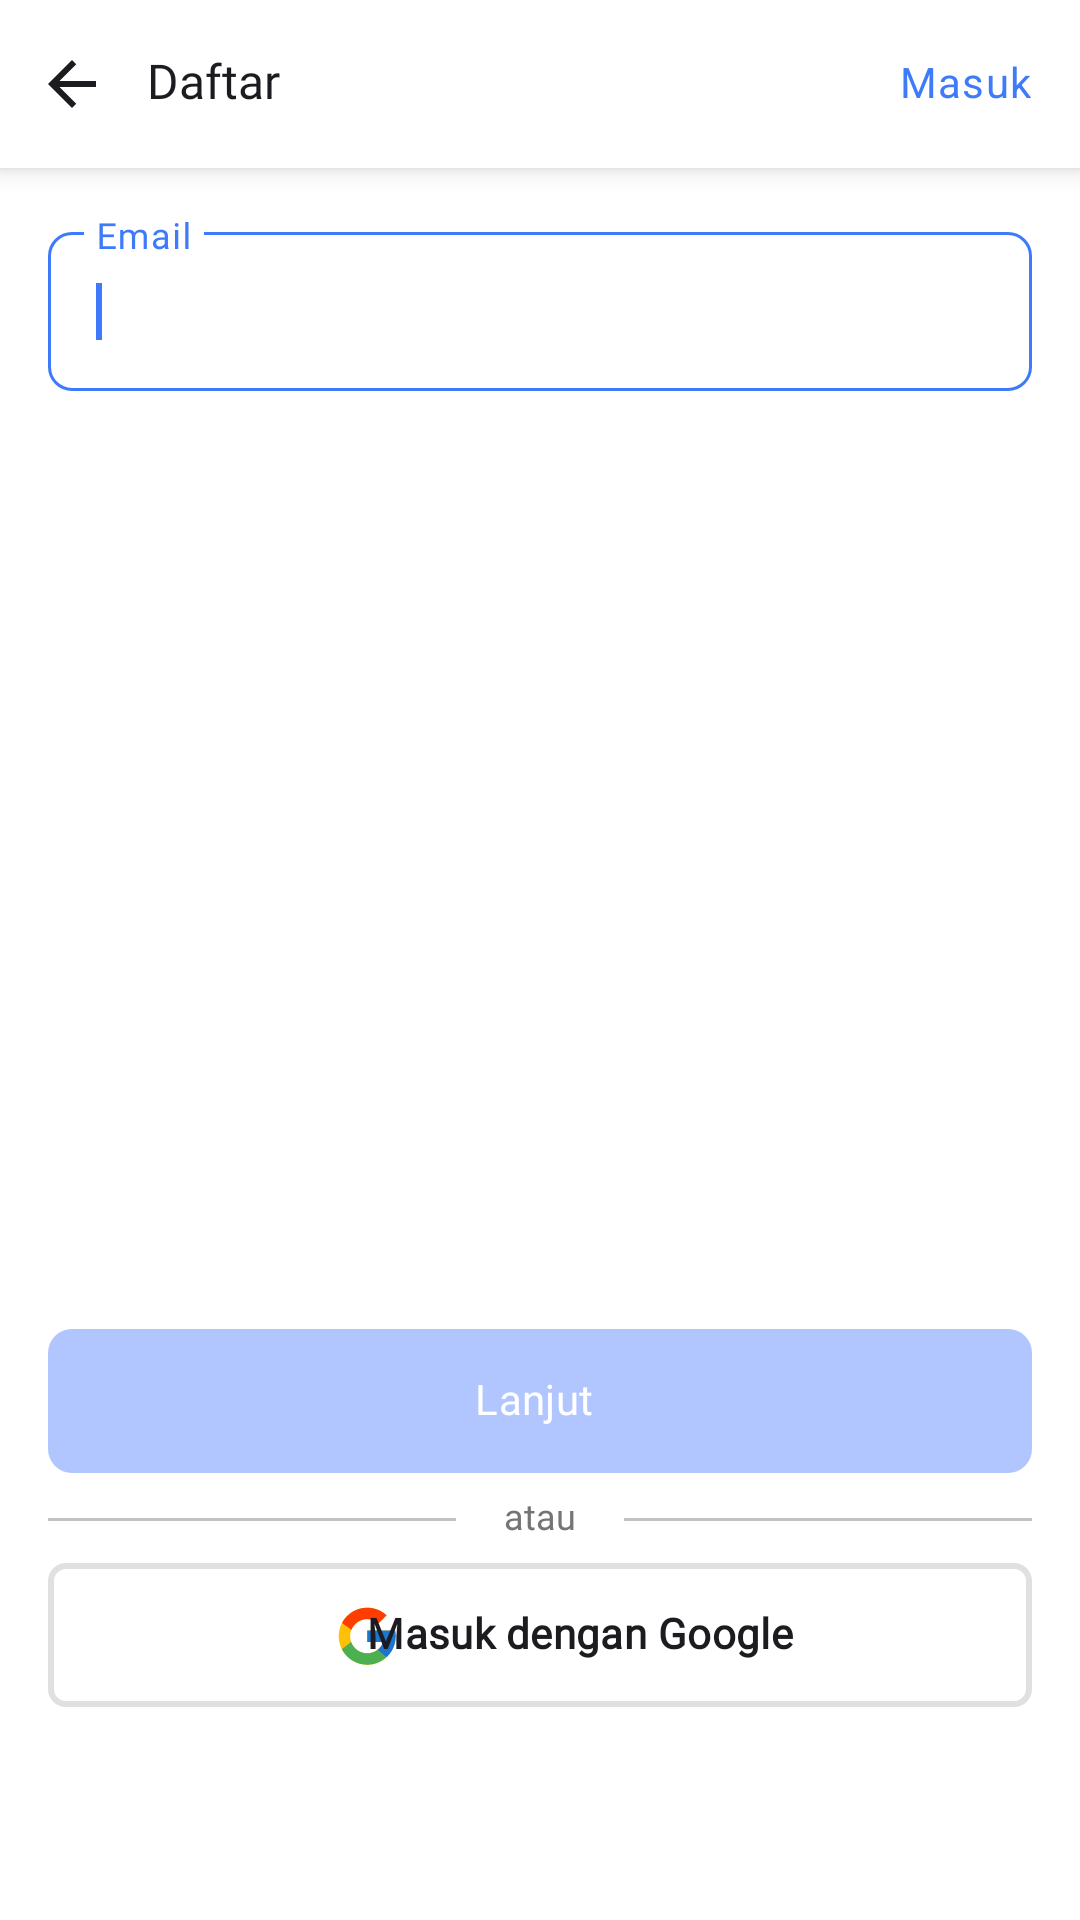

Icon click points for this 1080 × 1920 phone screenshot, format (x=x, y=y):
all arrow back: (x=72, y=84)
